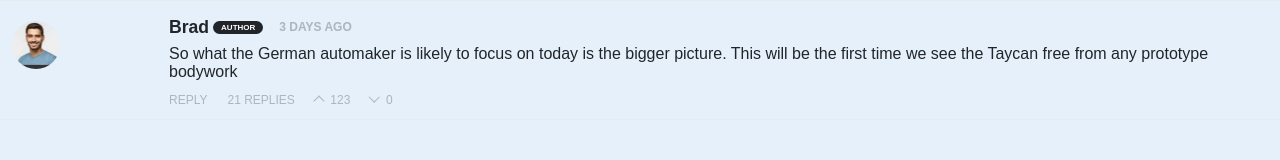
Test: Comment.vue › clicking upvotes should increment its count
expect the element with id "upvotes" reads "123": met, box 327,93 -> 350,107
Click the element with id "upvotes" at (333, 100), box 315,93 -> 350,107
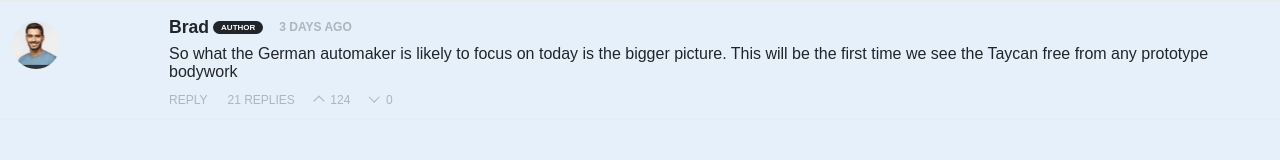
expect the element with id "upvotes" reads "124": met, box 327,93 -> 350,107
